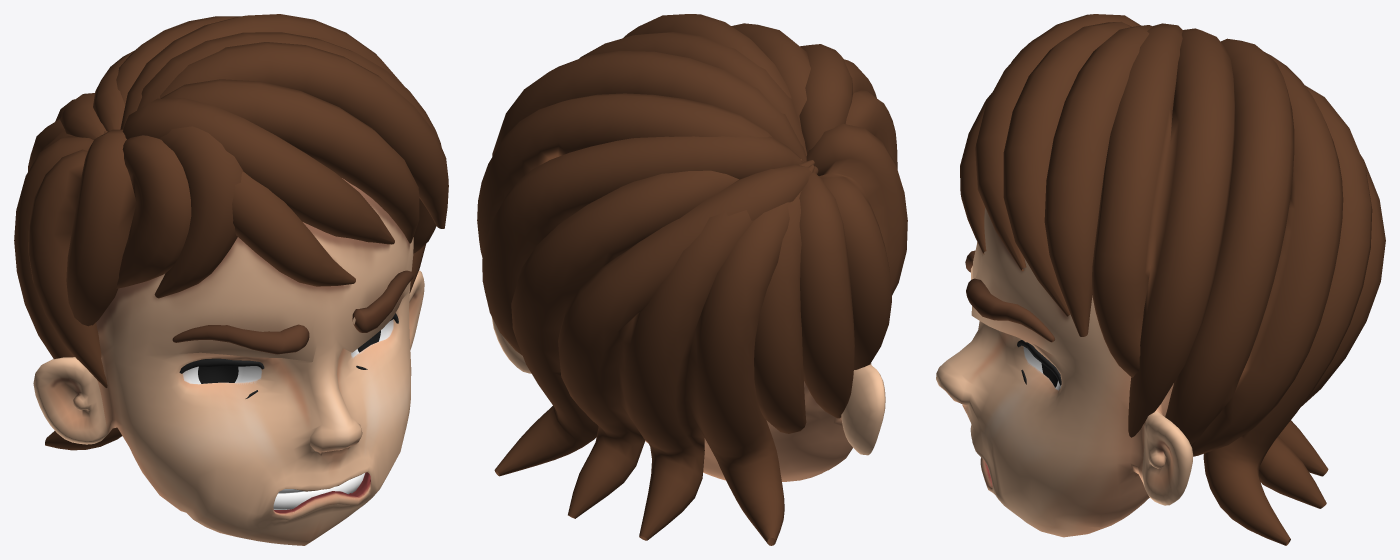
Rendered from KidWorry.glb.
3 renders of one model, left to right at view 1: azimuth 30°, elevation 25°; view 2: azimuth 150°, elevation 25°; view 3: azimuth 270°, elevation 25°, orthographic. The views are drawn at different scales.
Parts seen in each view (by area): view 1: BézierCurve.010, Cube.001, Cube.003; view 2: BézierCurve.010, Cube.001; view 3: BézierCurve.010, Cube.001.
Part boxes in pixels (x1,y1,x2,y2): BézierCurve.010: (14, 14, 448, 450); Cube.001: (33, 178, 424, 545); Cube.003: (179, 313, 398, 373); BézierCurve.010: (477, 14, 907, 545); Cube.001: (492, 317, 885, 481); BézierCurve.010: (960, 14, 1385, 545); Cube.001: (936, 207, 1193, 537).
Bounding box in the file's own units: 0.479 × 0.5499 × 0.4585.
Materials: 3 (2 with a texture image).
